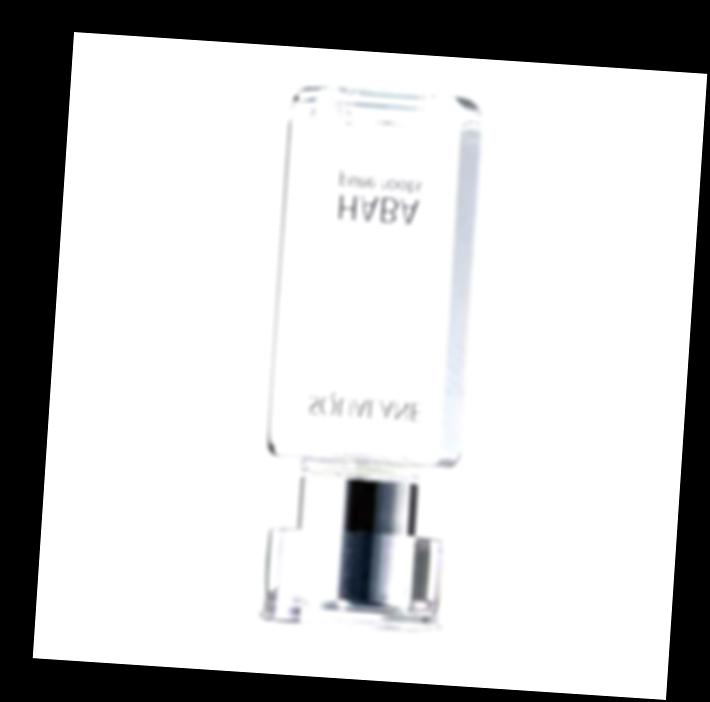cosmetic: (253, 85, 485, 635)
